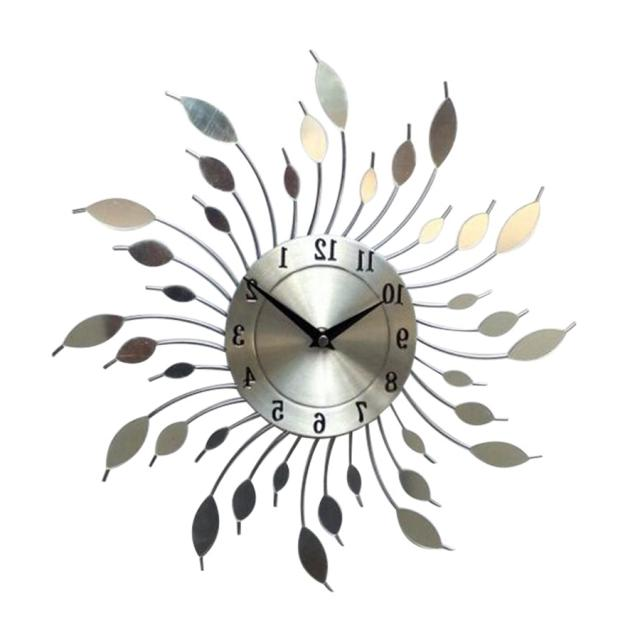clock: (22, 0, 604, 640)
